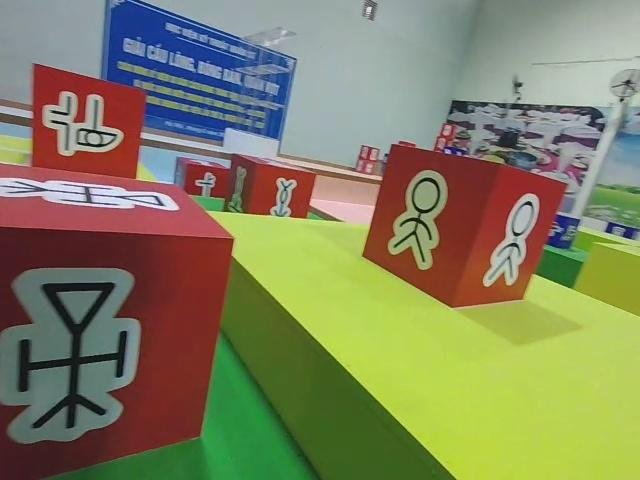R2 Real: (0, 160, 234, 479), (363, 140, 567, 311), (29, 60, 147, 185), (223, 150, 317, 227)
